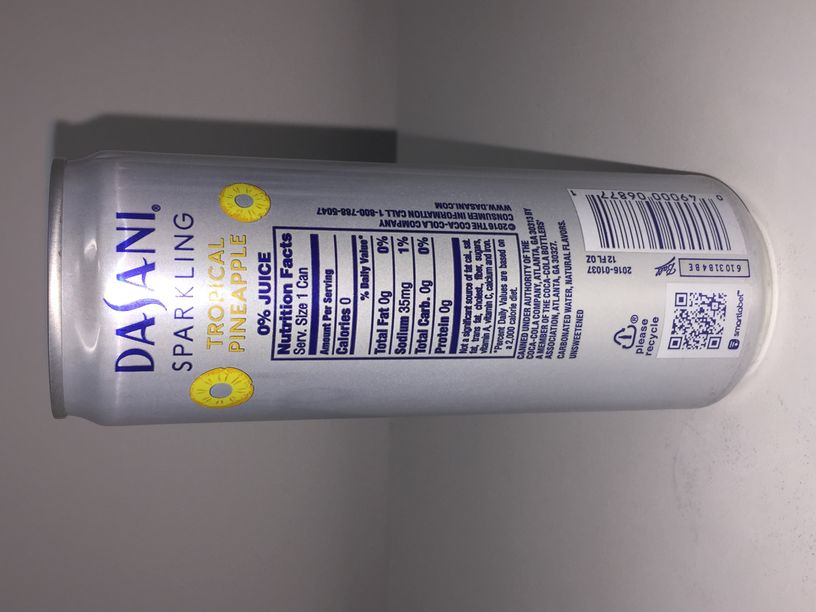pineapple: (50, 151, 767, 423)
